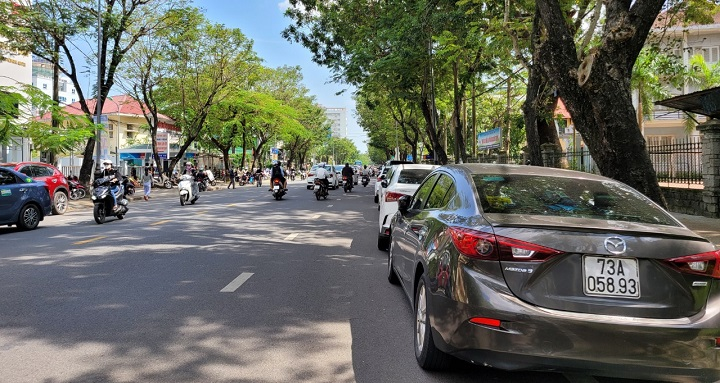number plate: (583, 254, 644, 304)
